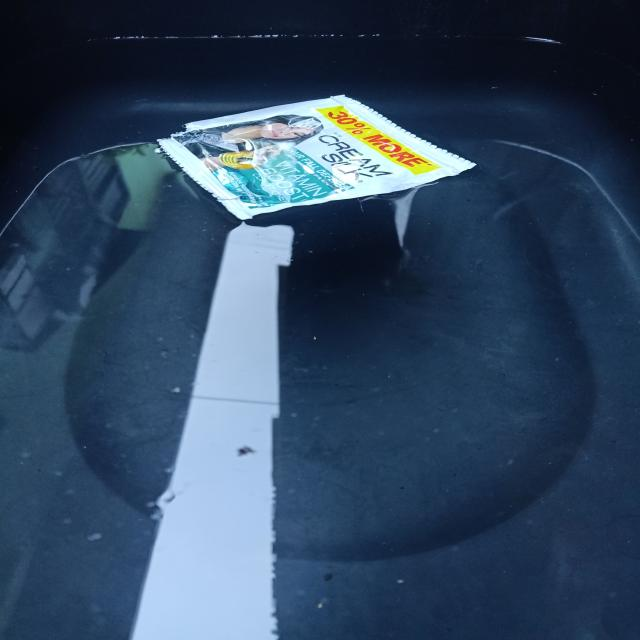Plastic Wrapper: (153, 88, 478, 219)
